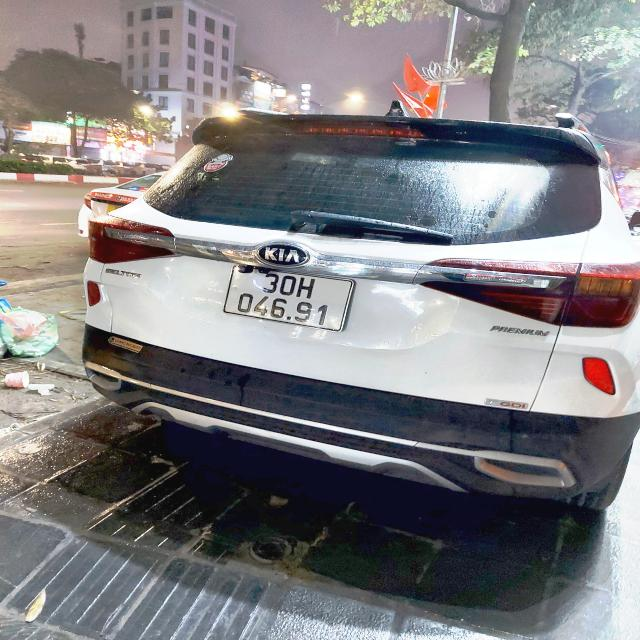license_plate: (223, 266, 357, 335)
